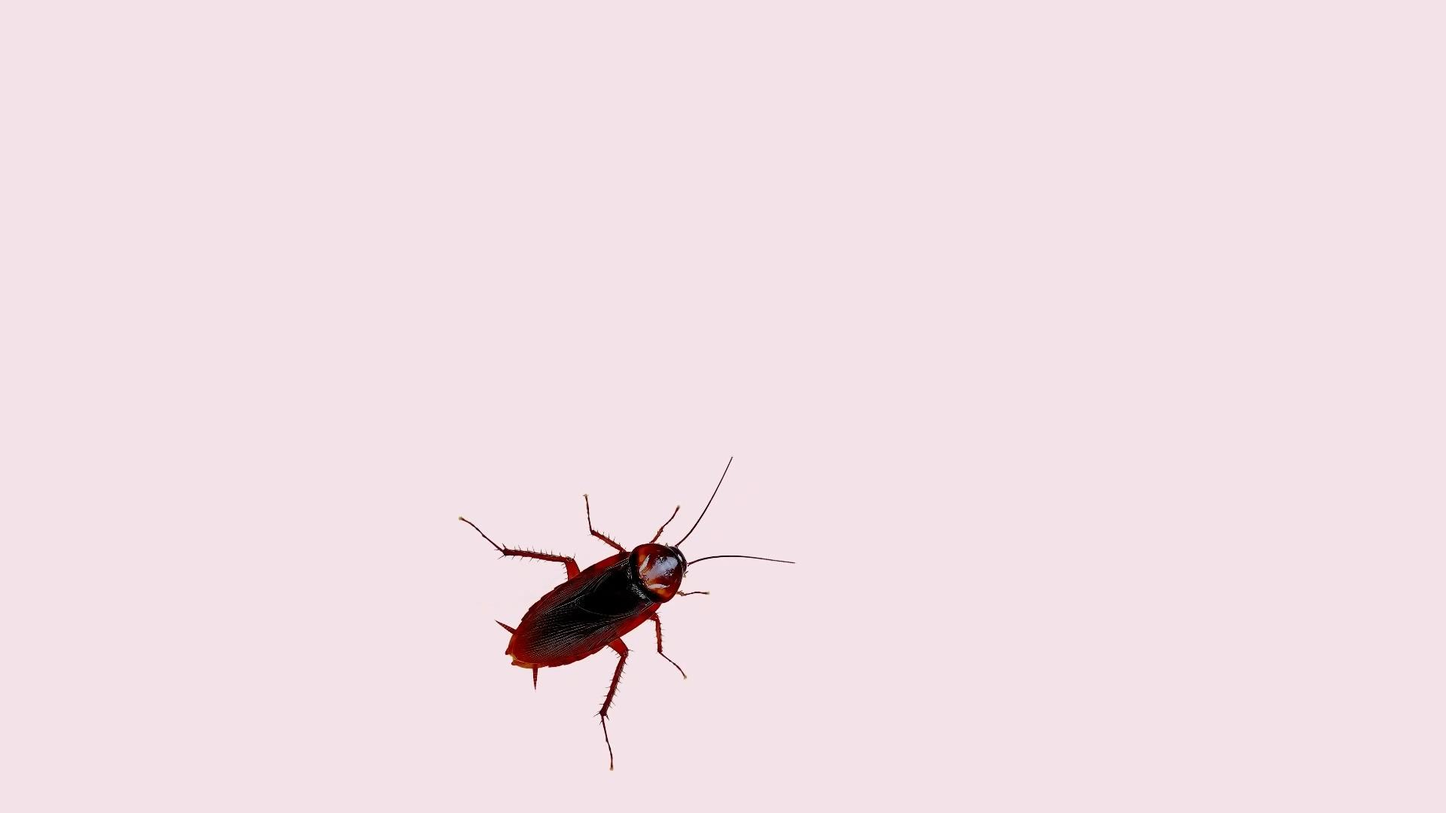cockroach: (456, 457, 799, 749)
